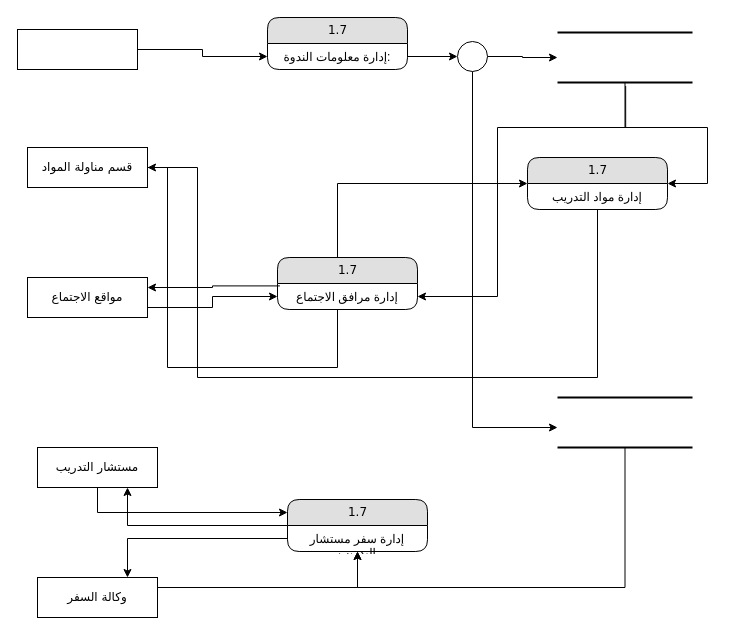
This 733x635 diagram has some shape labels left out. The centre of each missing label's shape, as x and y in pixels:
"تفاصيل الندوة" belongs at point (624, 57).
"قسم الحجوزات" belongs at point (77, 49).
"معلومات سفر المستشار" belongs at point (624, 422).
